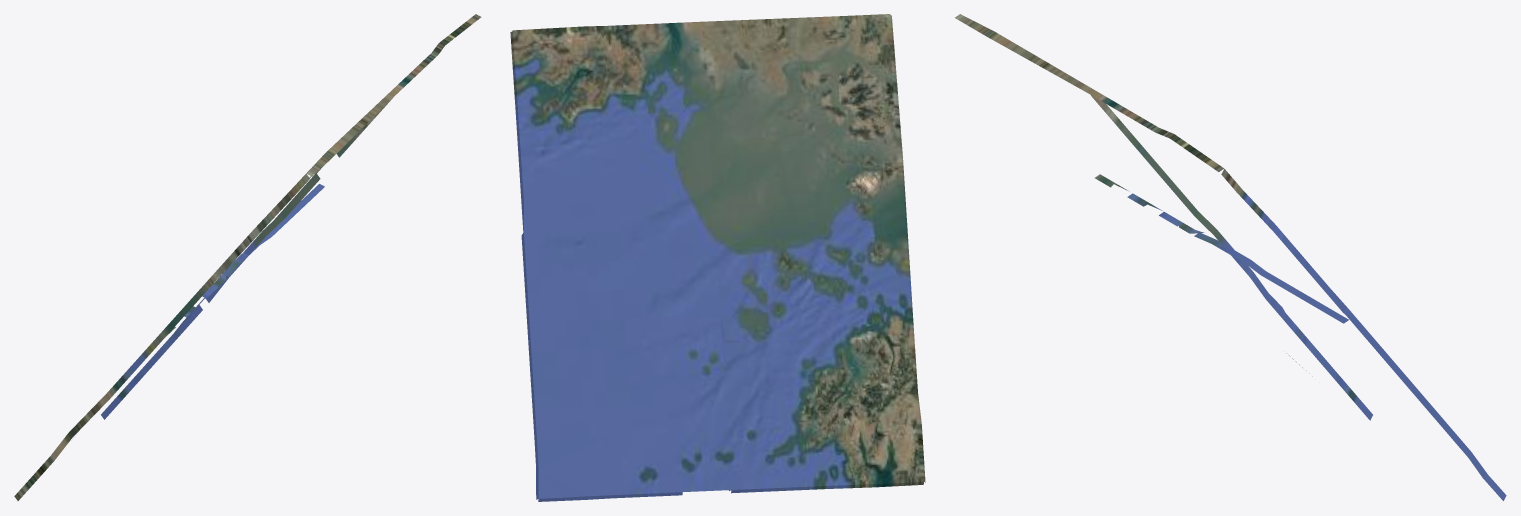
3 renders of one model, left to right at view 1: azimuth 30°, elevation 25°; view 2: azimuth 150°, elevation 25°; view 3: azimuth 270°, elevation 25°, orthographic. The views are drawn at different scales.
Size of the model in its own units: 159089 by 127289 by 152126.
1 material, 1 textured.
